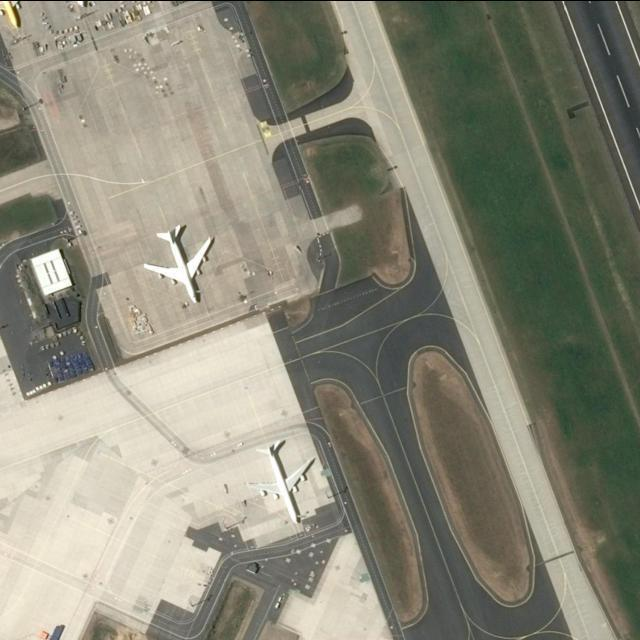Aircraft: (144, 218, 224, 304), (255, 434, 317, 526), (1, 0, 29, 34)
